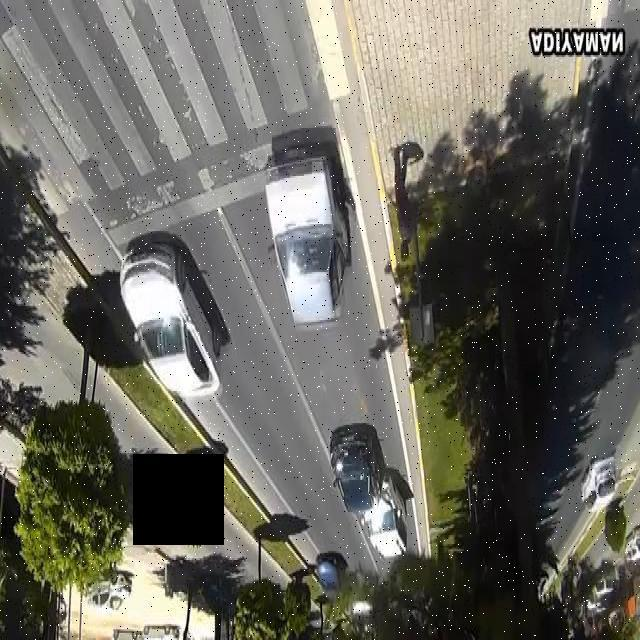vehicle: (322, 404, 424, 573)
